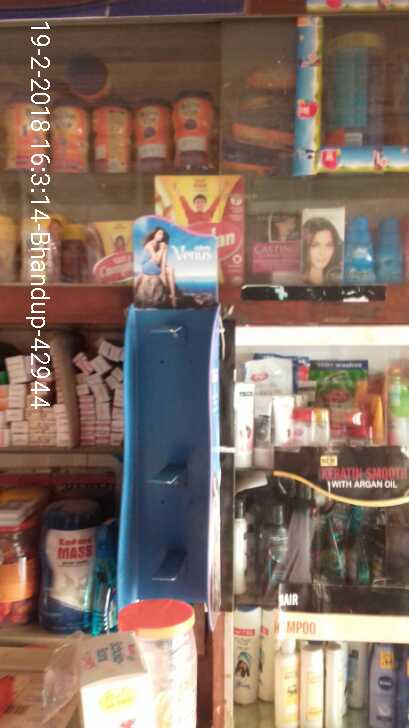reject: (127, 294, 226, 581)
